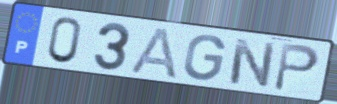0: (47, 16, 84, 65)
3: (91, 21, 131, 72)
A: (128, 26, 180, 81)
G: (181, 33, 228, 83)
N: (226, 37, 277, 90)
P: (271, 41, 322, 94)
